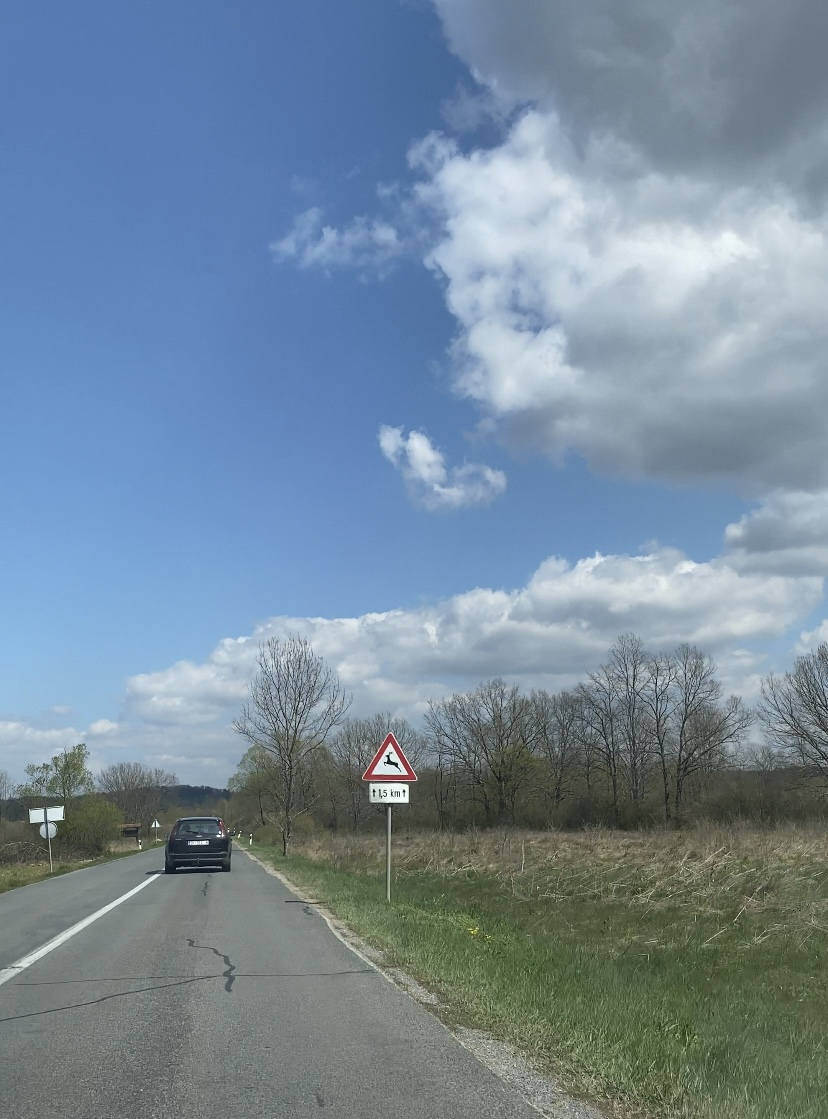Divljač na cesti: (362, 732, 418, 781)
